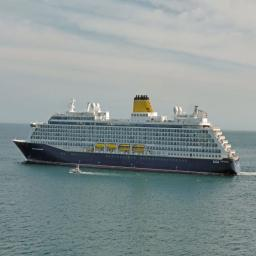cruises: (11, 92, 243, 180)
